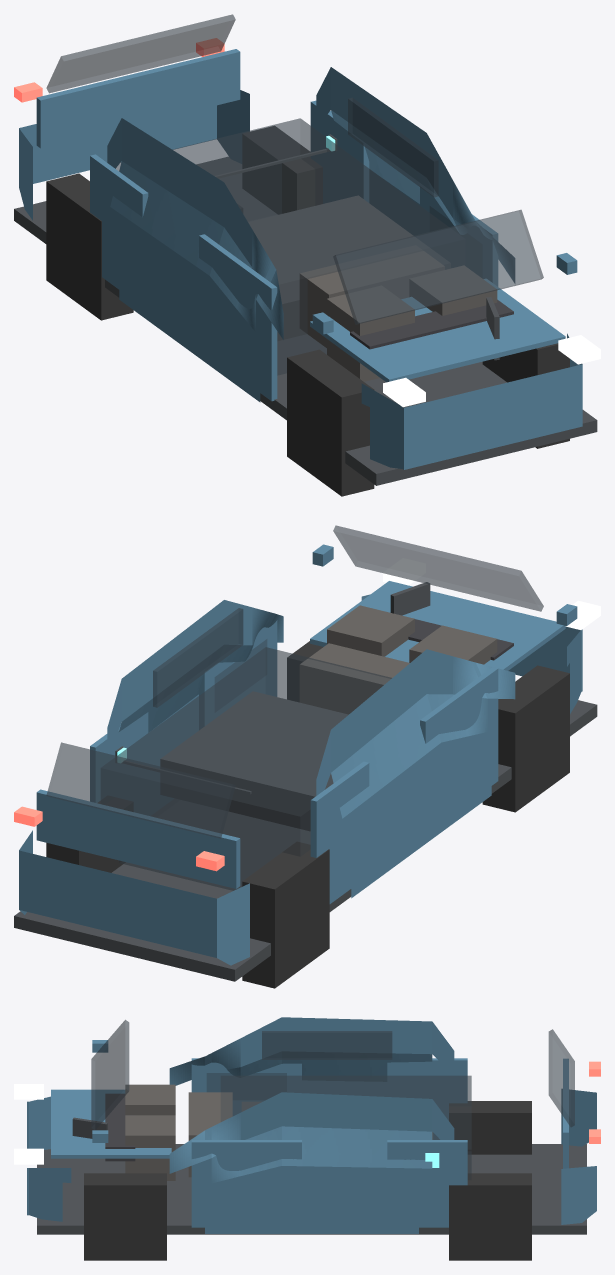
File: pickup.glb
3 views of the same model, one above another, from view 1: azimuth 30°, elevation 25°; view 2: azimuth 150°, elevation 25°; view 3: azimuth 270°, elevation 25° (orthographic). The views are drawn at different scales.
Visible parts, largest first — view 1: body_mesh, cab_mesh, windshield, tailgate_mesh, trim_mesh, wheel_well_mesh, tire_fr, frunk_mesh, tire_rr, rear_glass, seat_rear, tire_rl (+11 smaller); view 2: body_mesh, cab_mesh, wheel_well_mesh, trim_mesh, tailgate_mesh, rear_glass, tire_rr, tire_fr, windshield, frunk_mesh, seat_rear, door_fl_mesh (+11 smaller); view 3: body_mesh, trim_mesh, cab_mesh, tire_fl, tire_rl, tire_rr, frunk_mesh, window_fixed_r, door_rl_mesh, door_fl_mesh, door_fr_mesh, door_rr_mesh (+11 smaller).
Boxes of the visible parts, box(x1,y1,x2,y2) form: body_mesh: box(19, 67, 582, 469); cab_mesh: box(116, 118, 465, 375); windshield: box(333, 210, 543, 324); tailgate_mesh: box(36, 49, 240, 148); trim_mesh: box(14, 157, 597, 485); wheel_well_mesh: box(248, 195, 450, 340); tire_fr: box(287, 349, 374, 496); frunk_mesh: box(310, 279, 565, 382); tire_rr: box(46, 173, 133, 320); rear_glass: box(46, 14, 235, 93); seat_rear: box(299, 245, 444, 347); tire_rl: box(242, 126, 322, 214); body_mesh: box(19, 594, 582, 965); cab_mesh: box(101, 647, 391, 890); wheel_well_mesh: box(160, 691, 348, 831); trim_mesh: box(14, 700, 597, 981); tailgate_mesh: box(36, 789, 240, 888); rear_glass: box(46, 742, 235, 838); tire_rr: box(242, 841, 329, 988); tire_fr: box(482, 665, 569, 812); windshield: box(333, 525, 543, 611); frunk_mesh: box(310, 581, 565, 670); seat_rear: box(299, 643, 409, 714); door_fl_mesh: box(199, 620, 277, 729); body_mesh: box(27, 1017, 596, 1233); trim_mesh: box(37, 1144, 586, 1234); cab_mesh: box(220, 1075, 471, 1179); tire_fl: box(84, 1173, 166, 1260); tire_rl: box(449, 1173, 531, 1260); tire_rr: box(449, 1101, 531, 1154); frunk_mesh: box(51, 1089, 171, 1158); window_fixed_r: box(262, 1031, 392, 1059); door_rl_mesh: box(387, 1140, 467, 1227); door_fl_mesh: box(191, 1140, 301, 1227); door_fr_mesh: box(191, 1058, 301, 1115); door_rr_mesh: box(387, 1058, 467, 1139).
Size of the model in its own units: 2.22 by 1.81 by 5.85.
